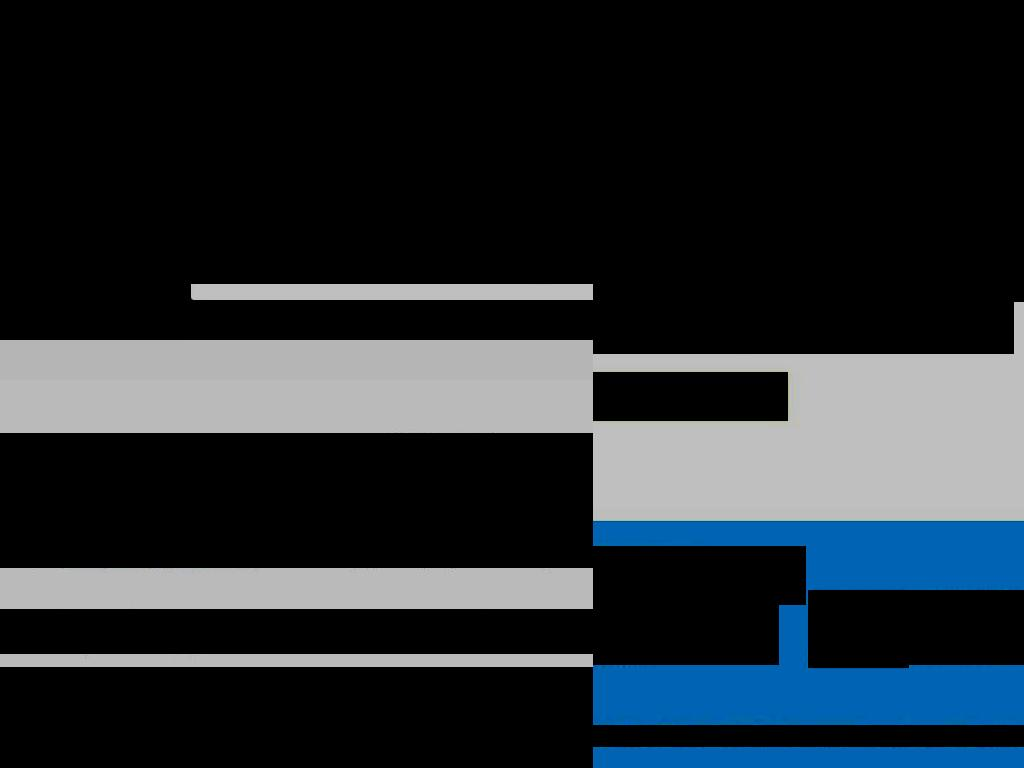button: (593, 0, 1024, 284), (593, 372, 788, 421), (0, 284, 94, 340)
heading: (593, 294, 1014, 354), (593, 0, 803, 87), (434, 31, 593, 61), (111, 73, 255, 104), (0, 73, 61, 104), (61, 73, 113, 104)
image: (0, 0, 593, 284), (541, 0, 589, 284), (593, 546, 806, 605), (808, 590, 909, 668)
link: (75, 553, 240, 568)
text: (34, 149, 544, 284), (0, 667, 593, 768), (0, 493, 593, 568), (0, 448, 593, 493), (0, 609, 593, 654), (0, 22, 589, 62), (0, 87, 589, 124), (0, 433, 593, 463), (808, 590, 1024, 665), (593, 590, 779, 665), (0, 126, 301, 163), (0, 250, 301, 284), (593, 725, 992, 747), (415, 151, 593, 191), (415, 191, 593, 231), (415, 231, 593, 271), (593, 99, 755, 140), (0, 284, 94, 340), (240, 553, 571, 568), (0, 433, 299, 448), (23, 609, 248, 624), (350, 448, 506, 463), (415, 271, 593, 284), (298, 433, 438, 448), (0, 493, 137, 508), (992, 725, 1024, 747), (0, 609, 23, 624), (593, 178, 609, 195)
